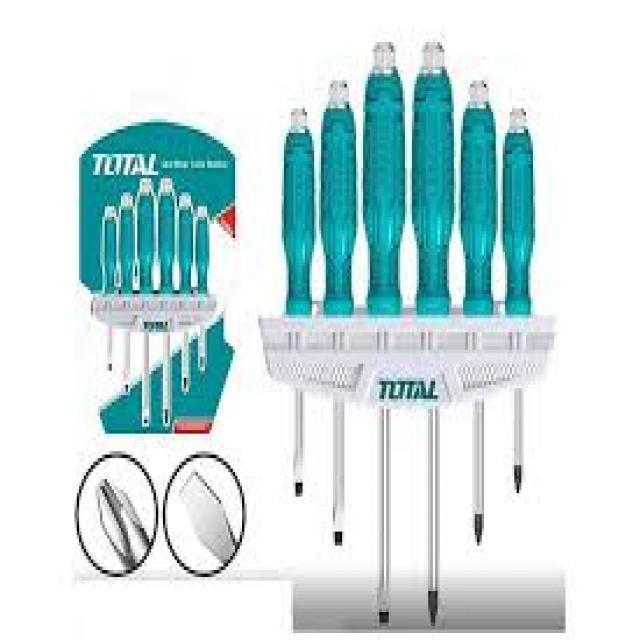screwdriver: (360, 36, 410, 632), (407, 31, 456, 633), (316, 76, 361, 562), (458, 77, 500, 560), (280, 98, 318, 500), (500, 102, 538, 500)
